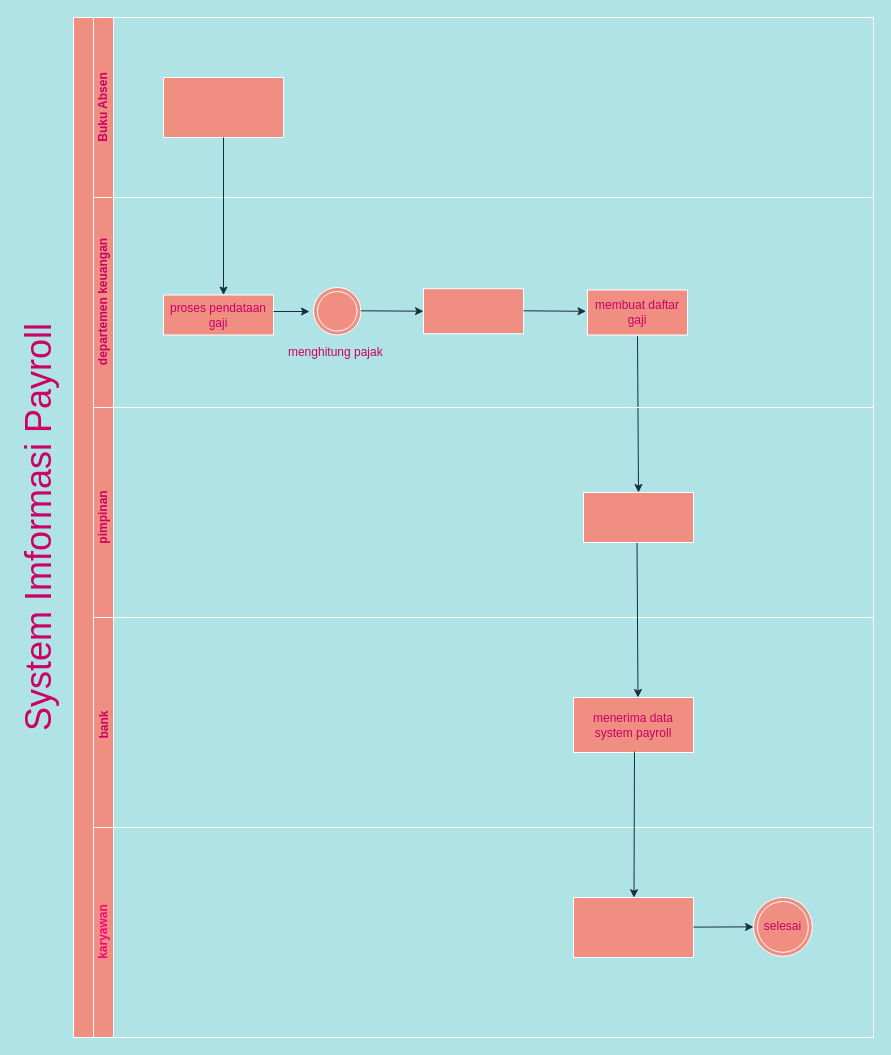
This 891x1055 diagram has some shape labels left out. The shapes that lost their labels are listed below. From the top down, each one's centre as x and y in pixels, then its label:
the point at 223,107: data kehadiran karyawan
the point at 473,311: membuat slip gaji
the point at 638,517: menyetujui
the point at 633,927: mengambil gaji via rekening bank
